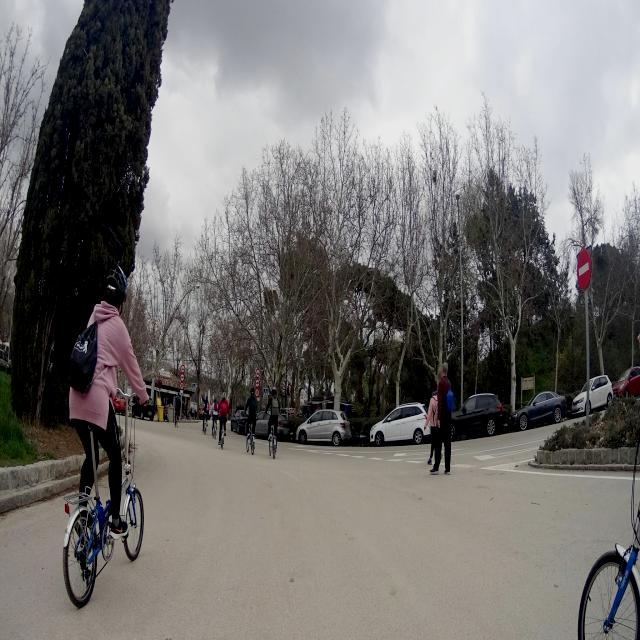bike: (62, 387, 146, 612)
car: (447, 391, 504, 439), (369, 402, 429, 447), (514, 389, 567, 430), (296, 408, 350, 446), (571, 373, 613, 417), (613, 364, 640, 400), (131, 386, 155, 420)
